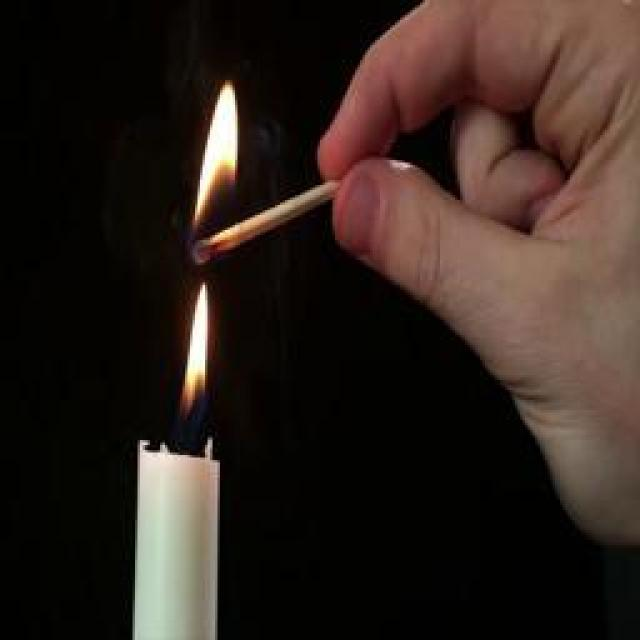Fire: (195, 84, 240, 224), (182, 286, 210, 416)
